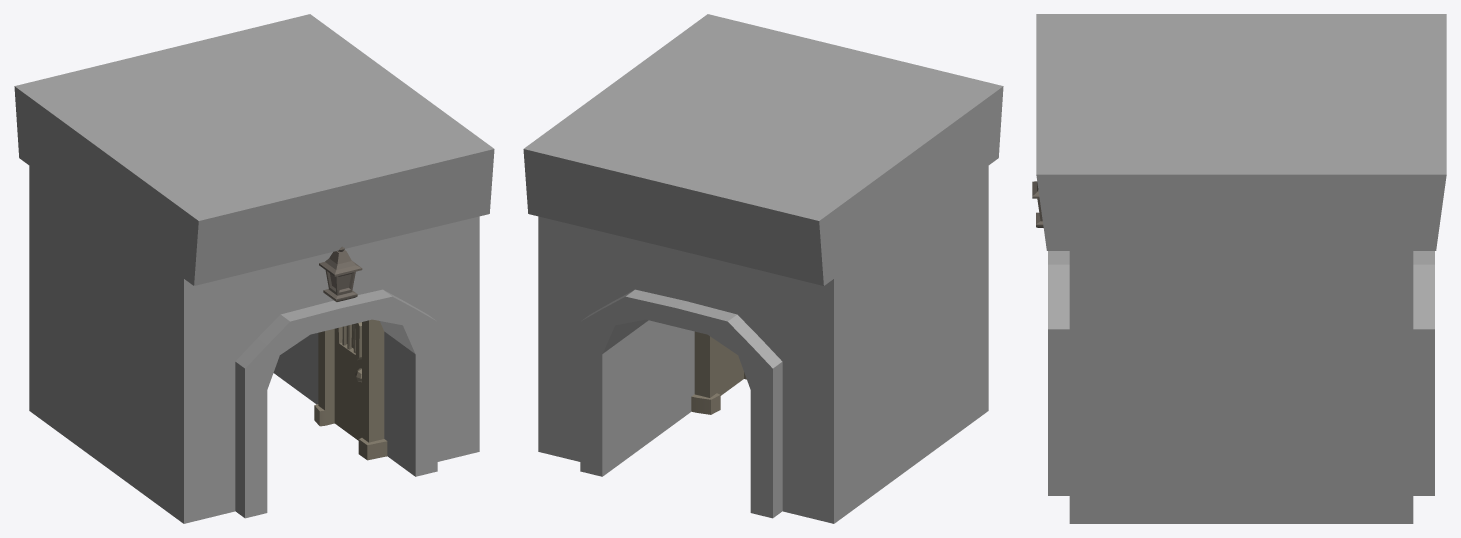
The model's file is LD_Tunnel_Short.fbx.
The picture shows the model from 3 angles, left to right: view 1: azimuth 30°, elevation 25°; view 2: azimuth 150°, elevation 25°; view 3: azimuth 270°, elevation 25°; orthographic projection. The views are drawn at different scales.
Visible parts, largest first — view 1: TunnelShort2; view 2: TunnelShort2; view 3: TunnelShort2.
Part boxes in pixels (x1,y1,x2,y2): TunnelShort2: [14, 14, 494, 523]; TunnelShort2: [523, 14, 1003, 523]; TunnelShort2: [1032, 14, 1446, 523].
Bounding box in the file's own units: 4.01 × 4.07 × 4.37.
